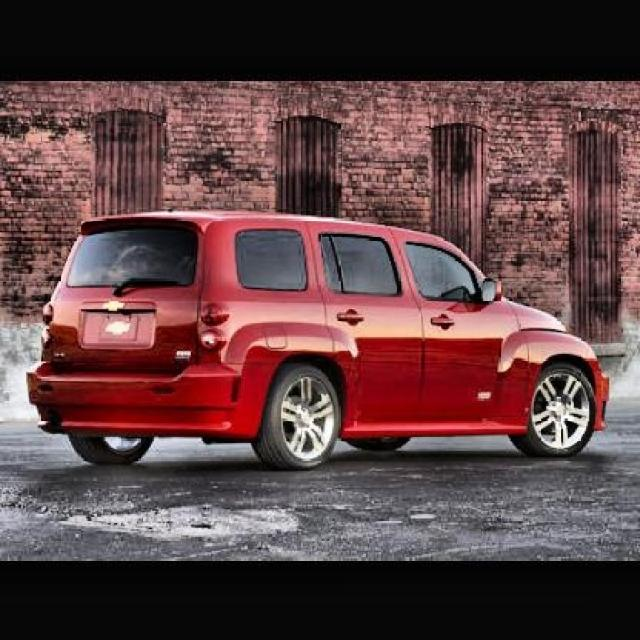red: (26, 173, 600, 500)
